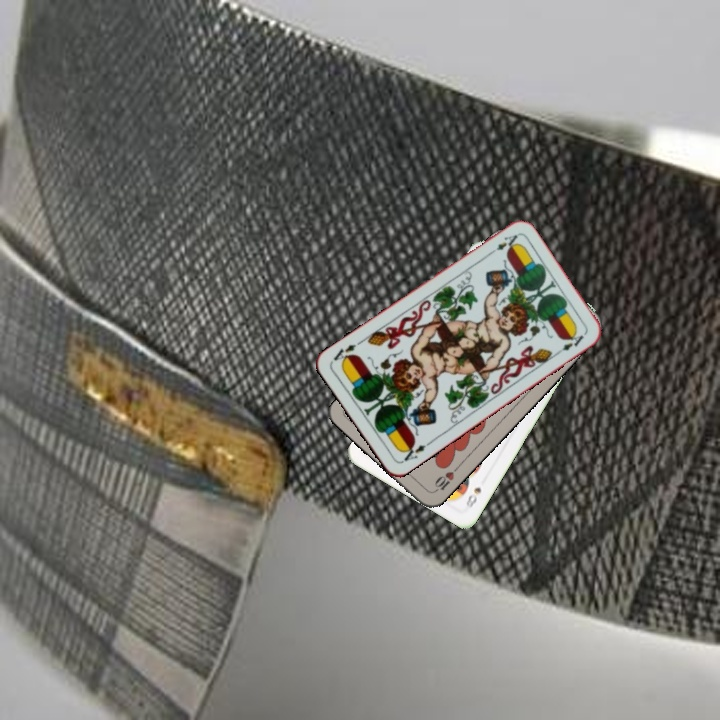EA: (484, 230, 520, 258), (397, 437, 434, 463)
H10: (430, 462, 461, 495)
S8: (462, 483, 484, 511)
